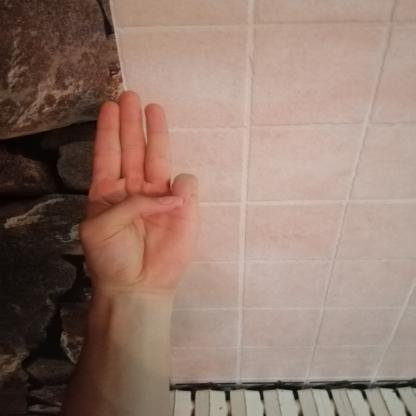THA: (62, 80, 212, 302)
